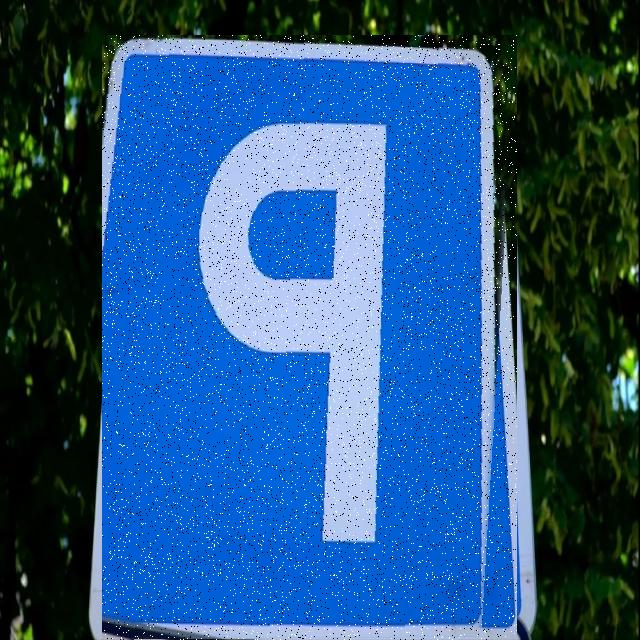parking: (102, 35, 517, 640)
